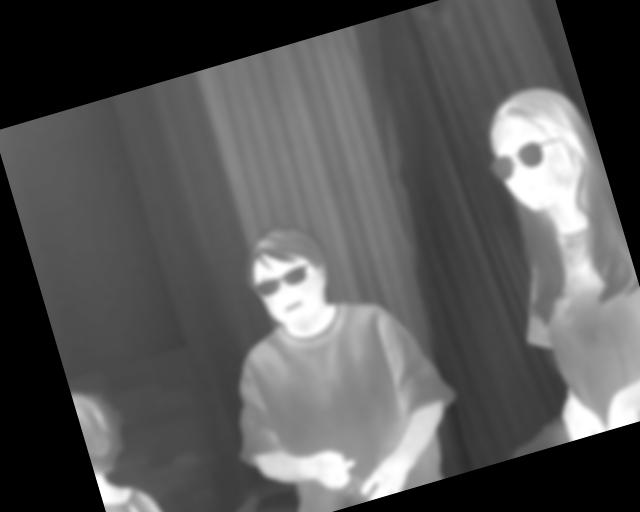face: (475, 76, 604, 219), (235, 217, 341, 337)
